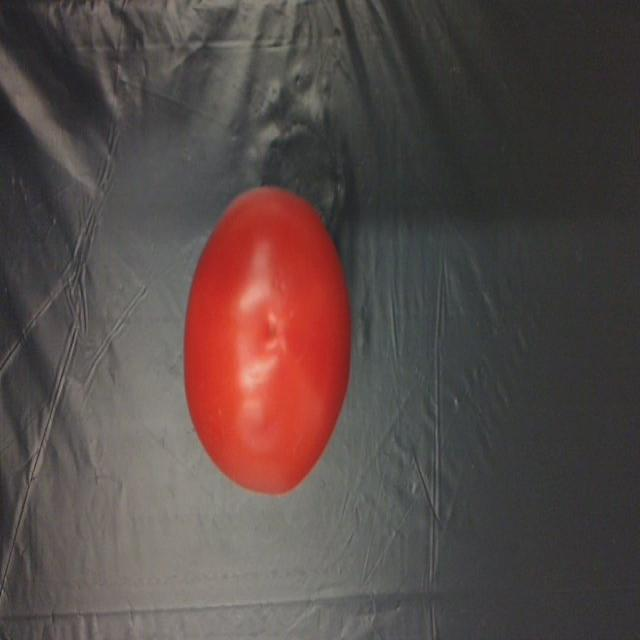kirmizi: (180, 156, 344, 501)
